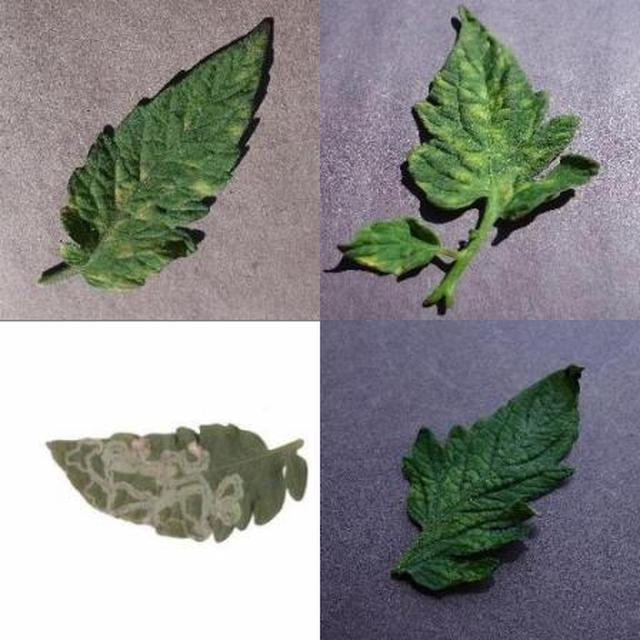Leaf Mold: (147, 80, 640, 640)
